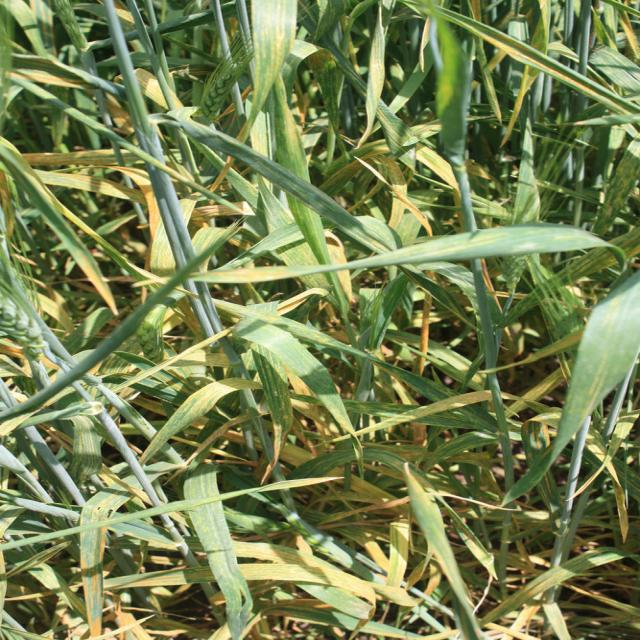wheat-yellowrust: (139, 382, 238, 467), (249, 0, 296, 122), (122, 171, 176, 271), (34, 170, 147, 205), (80, 527, 106, 633), (387, 524, 410, 588)
